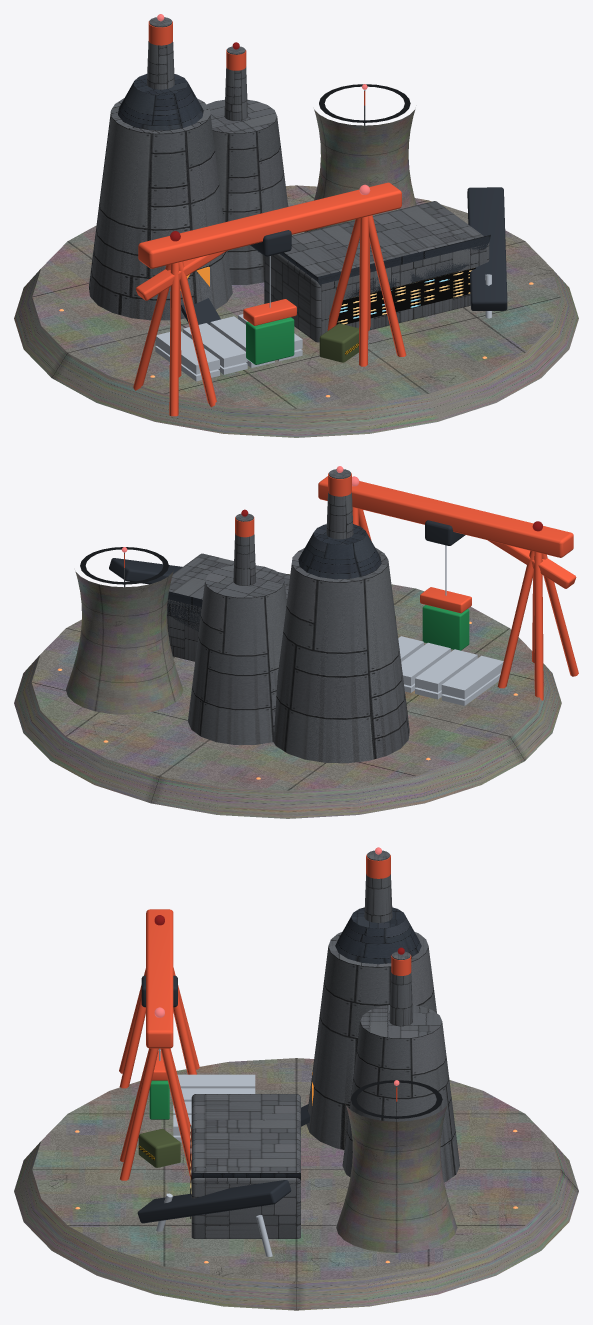
Rendered from steel-T3.glb.
3 renders of one model, top to bottom at view 1: azimuth 30°, elevation 25°; view 2: azimuth 150°, elevation 25°; view 3: azimuth 270°, elevation 25°, orthographic. The views are drawn at different scales.
Parts seen in each view (by area): view 1: object 1, object 12, object 25, object 18, object 44, object 21, object 49, anim:trolley, anim:smoke (×2), object 13, object 27, object 26 (+13 smaller); view 2: object 1, object 12, object 18, object 21, object 44, anim:trolley, object 25, anim:smoke (×2), object 13, object 32, object 36, object 33 (+7 smaller); view 3: object 1, object 21, object 25, object 18, object 12, object 44, anim:smoke (×2), object 49, object 13, anim:trolley, object 43, object 52 (+5 smaller).
Part boxes in pixels (x1,y1,x2,y2): object 1: (14,185,578,437); object 12: (89,98,232,320); object 25: (264,201,489,342); object 18: (206,99,288,284); object 44: (138,182,401,268); object 21: (304,109,416,232); object 49: (467,187,507,310); anim:trolley: (243,230,296,364); anim:smoke (×2): (146,17,247,120); object 13: (118,74,203,130); object 27: (336,267,475,324); object 26: (279,235,490,297); object 1: (14,574,561,818); object 12: (273,547,409,763); object 18: (188,565,286,744); object 21: (66,570,182,714); object 44: (318,476,573,557); anim:trolley: (420,520,471,650); object 25: (167,553,290,661); anim:smoke (×2): (233,469,353,585); object 13: (298,524,381,579); object 32: (441,655,503,699); object 36: (533,552,543,700); object 33: (415,649,477,692); object 1: (14,1058,578,1310); object 21: (336,1104,457,1252); object 25: (191,1094,300,1238); object 18: (342,1005,459,1182); object 12: (306,931,436,1149); object 44: (146,909,173,1048); anim:smoke (×2): (364,850,412,1026); object 49: (137,1180,291,1223); object 13: (335,907,421,964); anim:trolley: (141,975,177,1119); object 43: (120,1048,158,1180); object 52: (138,1128,180,1167).
Bounding box in the file's own units: 6.2 × 3.6 × 6.2.
Materials: 19 (6 with a texture image).
